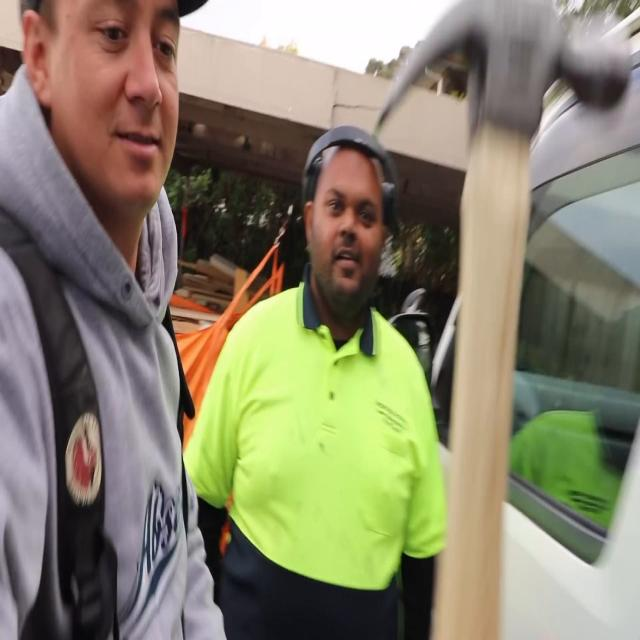hammer: (376, 0, 629, 640)
